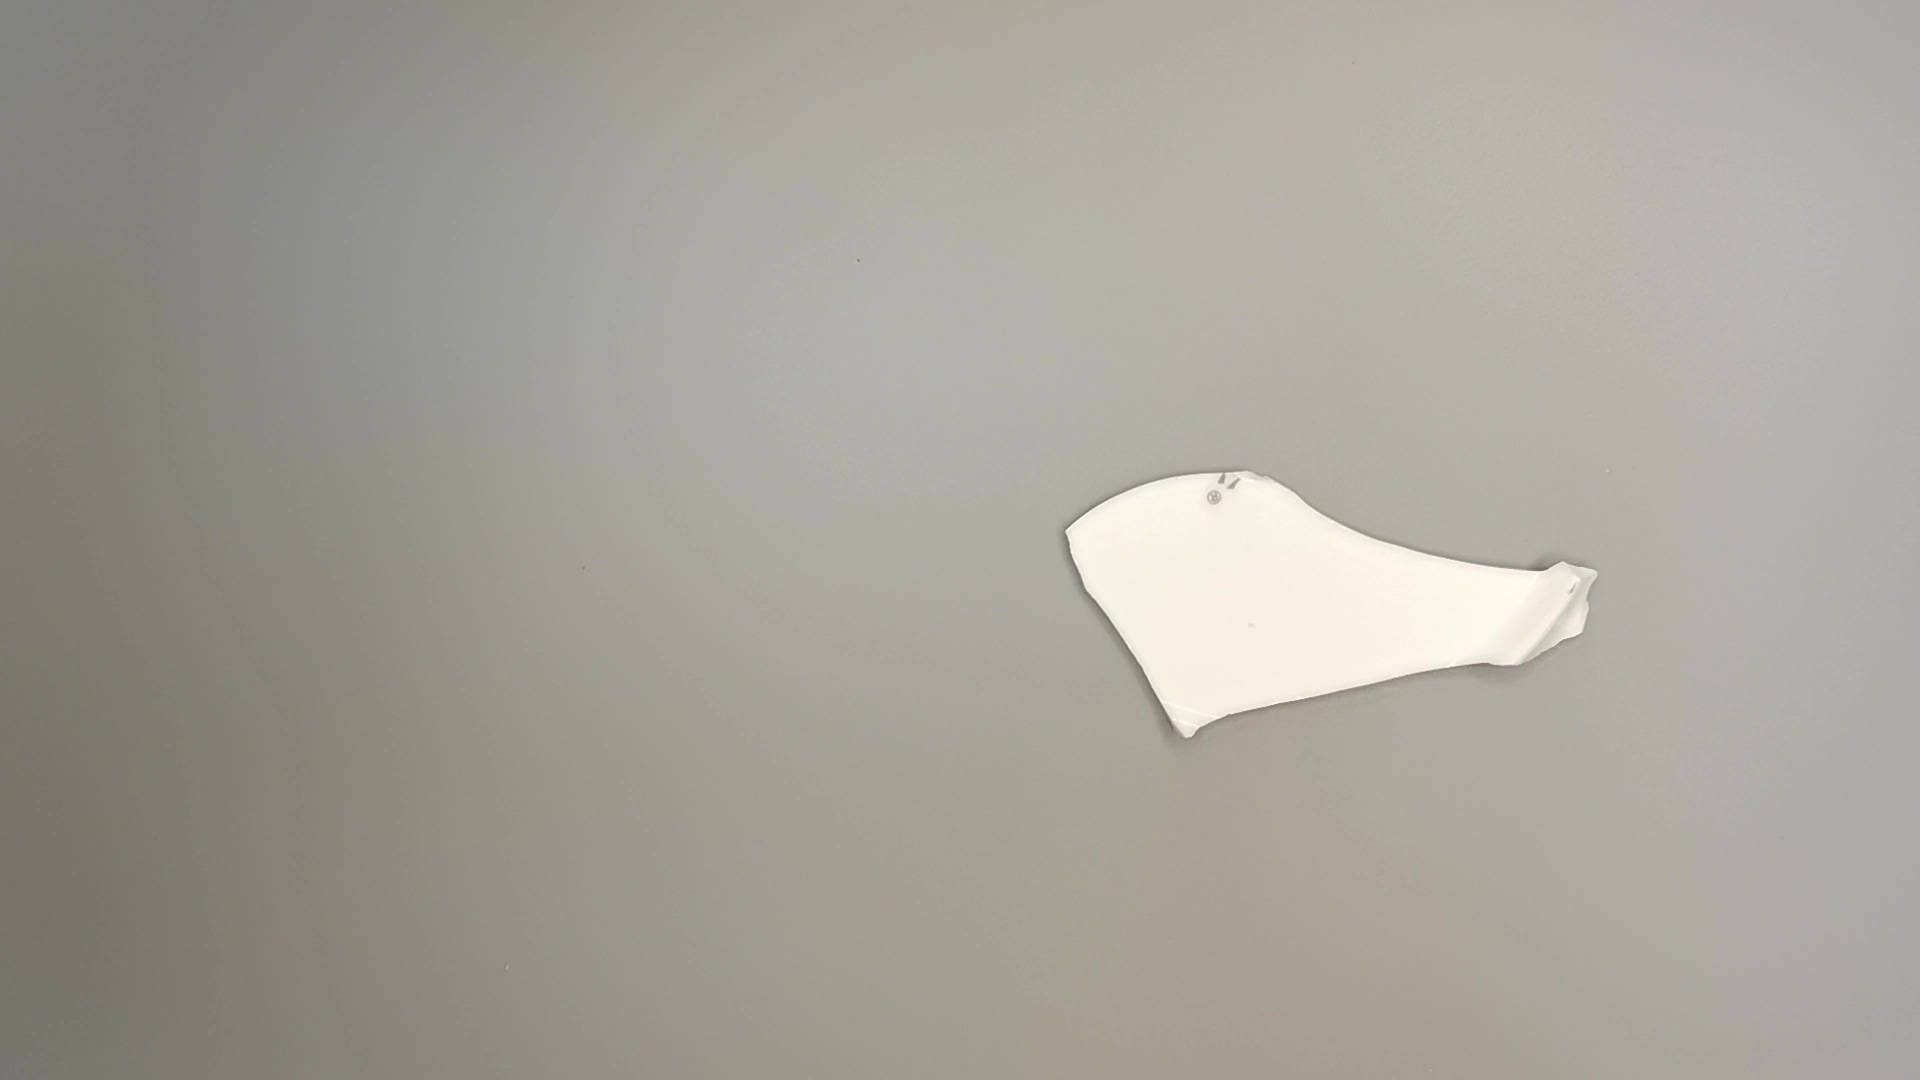ceramic: (1062, 468, 1607, 750)
